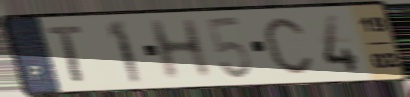1: (104, 18, 145, 86)
4: (322, 13, 361, 75)
5: (204, 14, 252, 80)
C: (261, 15, 316, 77)
H: (144, 16, 216, 84)
T: (45, 23, 88, 84)
